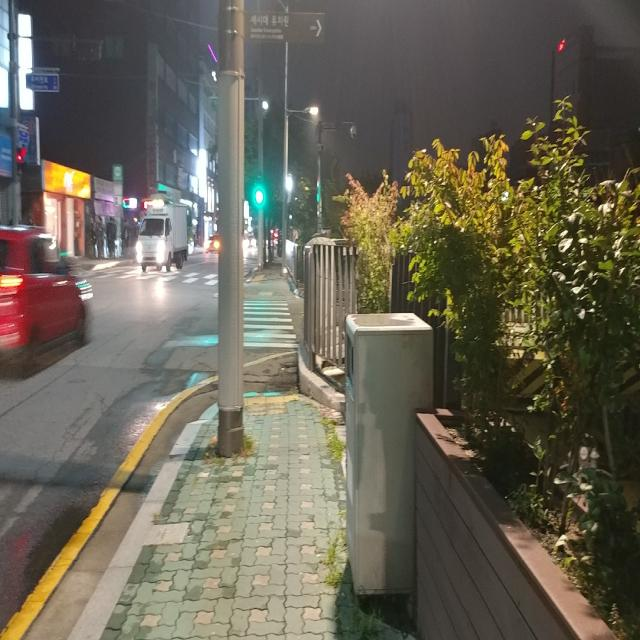빨간불: (17, 149, 23, 177)
횡단보도: (243, 300, 299, 349)
